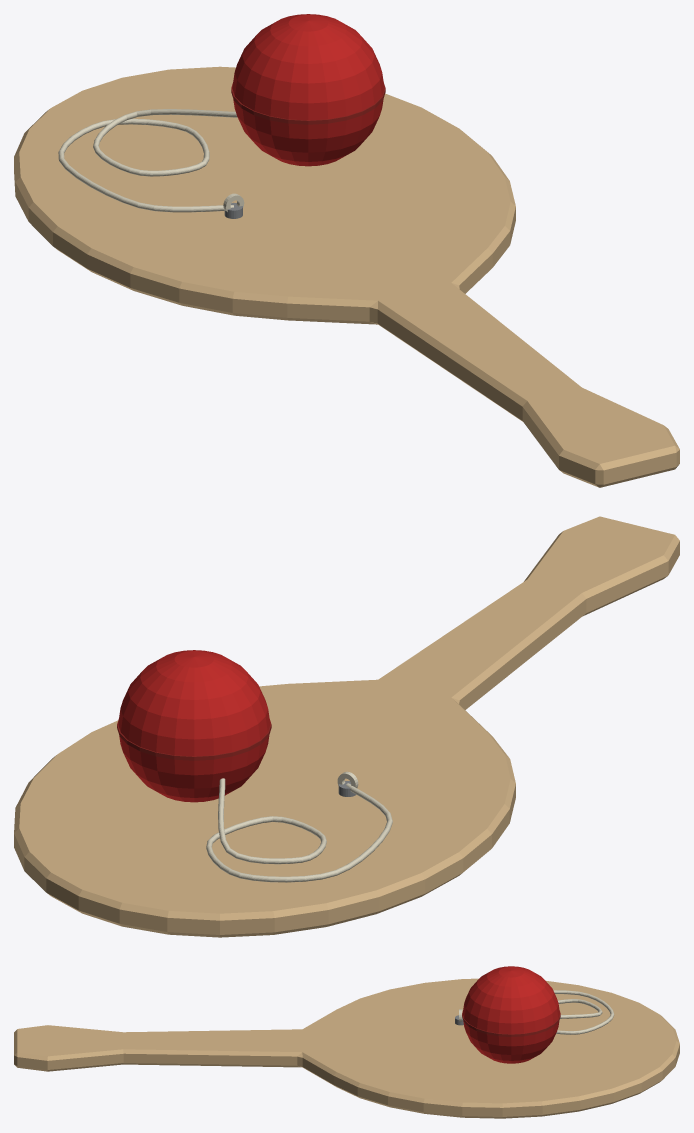
The model's file is full.fbx.
3 views of the same model, one above another, from view 1: azimuth 30°, elevation 25°; view 2: azimuth 150°, elevation 25°; view 3: azimuth 270°, elevation 25° (orthographic). The views are drawn at different scales.
Visible parts, largest first — view 1: One piece oval paddle and waisted handle, Rubber ball, Continuous slack elastic, Equatorial molded seam; view 2: One piece oval paddle and waisted handle, Rubber ball, Continuous slack elastic, Equatorial molded seam; view 3: One piece oval paddle and waisted handle, Rubber ball, Continuous slack elastic, Equatorial molded seam.
Boxes of the visible parts, bbox=[...] form: One piece oval paddle and waisted handle: bbox=[14, 66, 679, 487]; Rubber ball: bbox=[232, 14, 384, 166]; Continuous slack elastic: bbox=[58, 109, 237, 212]; Equatorial molded seam: bbox=[231, 82, 385, 124]; One piece oval paddle and waisted handle: bbox=[14, 516, 679, 937]; Rubber ball: bbox=[118, 650, 270, 802]; Continuous slack elastic: bbox=[206, 778, 392, 882]; Equatorial molded seam: bbox=[117, 719, 271, 760]; One piece oval paddle and waisted handle: bbox=[14, 978, 679, 1118]; Rubber ball: bbox=[462, 966, 559, 1063]; Continuous slack elastic: bbox=[553, 990, 614, 1034]; Equatorial molded seam: bbox=[462, 1011, 560, 1036].
Size of the model in its own units: 17.98 by 6.75 by 39.5.
